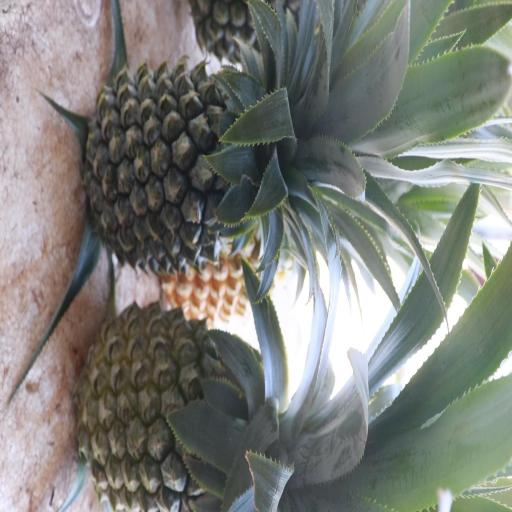------------------------------: (82, 306, 295, 508)
